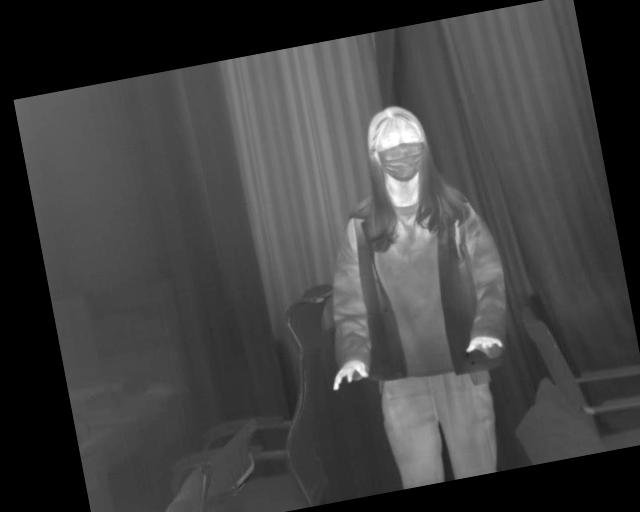face: (209, 278, 282, 369), (366, 320, 422, 392)
